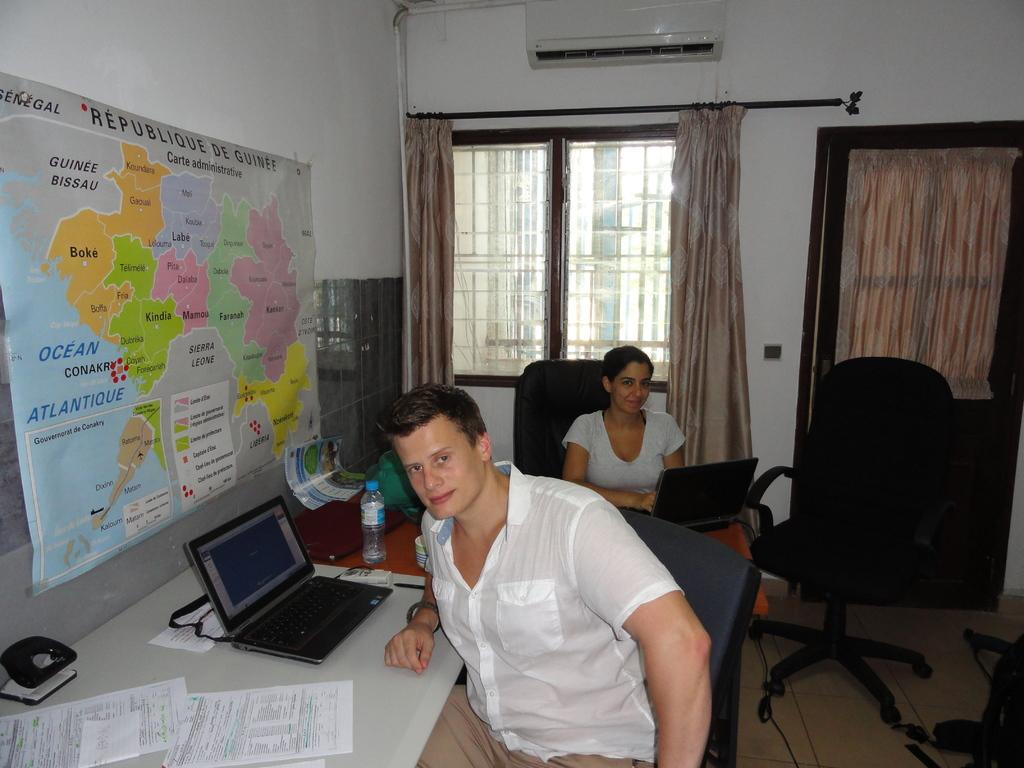Laptop: (173, 495, 388, 661), (650, 458, 757, 527), (296, 498, 405, 560)
